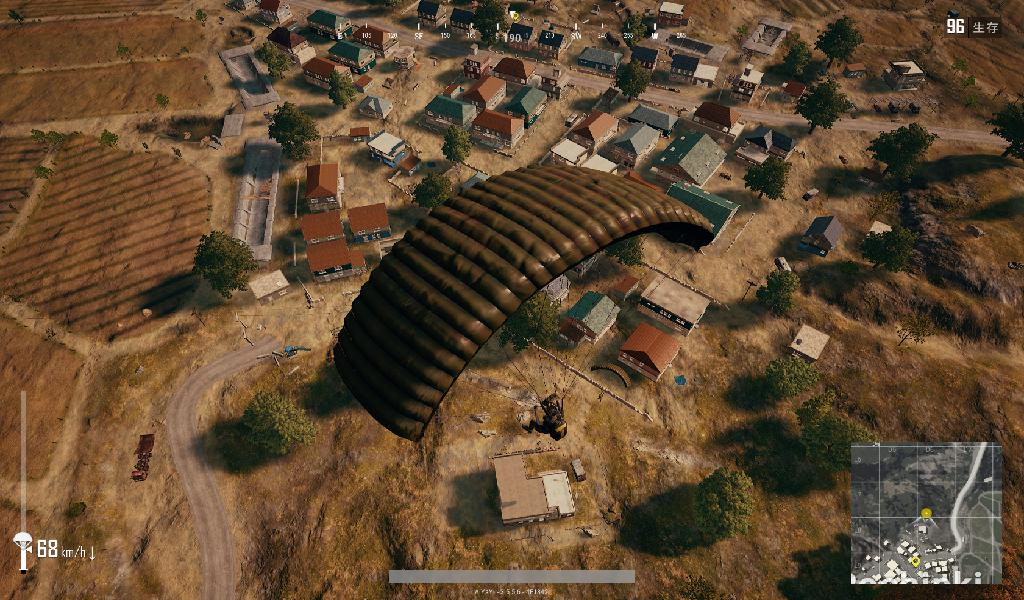Target Person: (520, 390, 569, 440)
